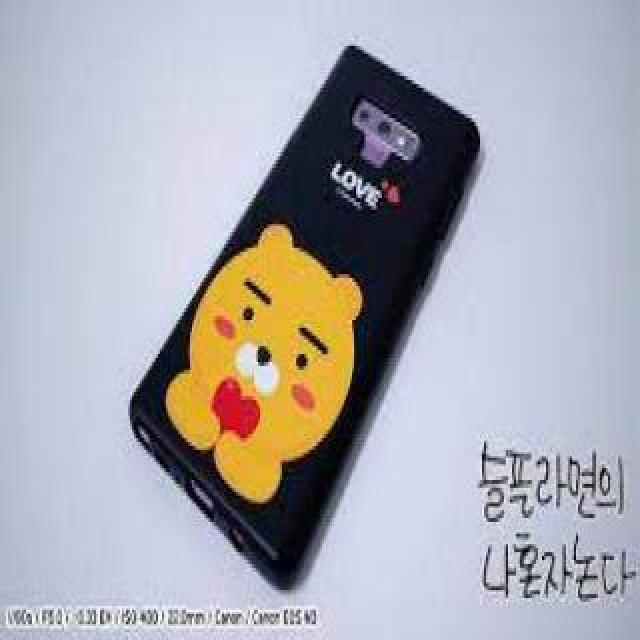smart phone: (112, 50, 505, 527)
